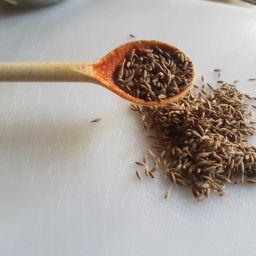Cumin (zeera): (77, 28, 256, 208), (188, 53, 256, 210), (124, 117, 236, 209), (110, 35, 199, 115)
